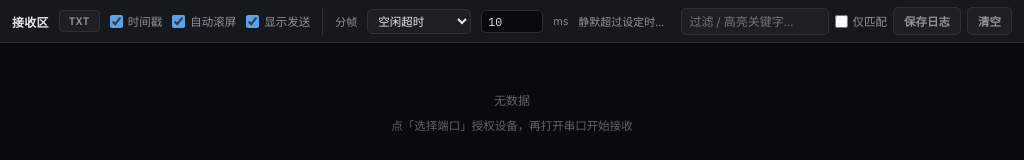
it: 接收区分帧控件 › 选「按换行」后 ms 输入框直接消失，界面上只剩一个分帧控件
Expected: the number field named "空闲时长" is shown, [481,10,543,32]
Select "按换行" in the dropdown labelled "分帧" at [419, 21], box [367,8,471,34]
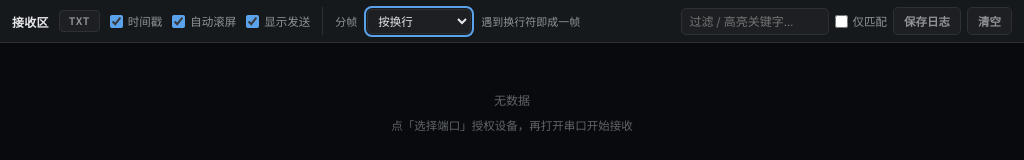
Expected: the number field labelled "空闲时长" is gone
